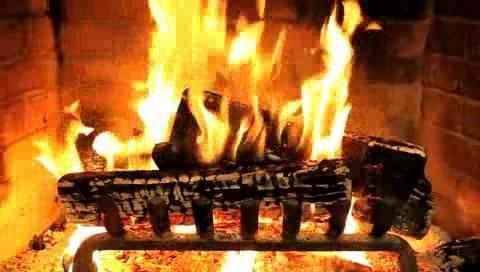fire: (110, 4, 378, 168)
